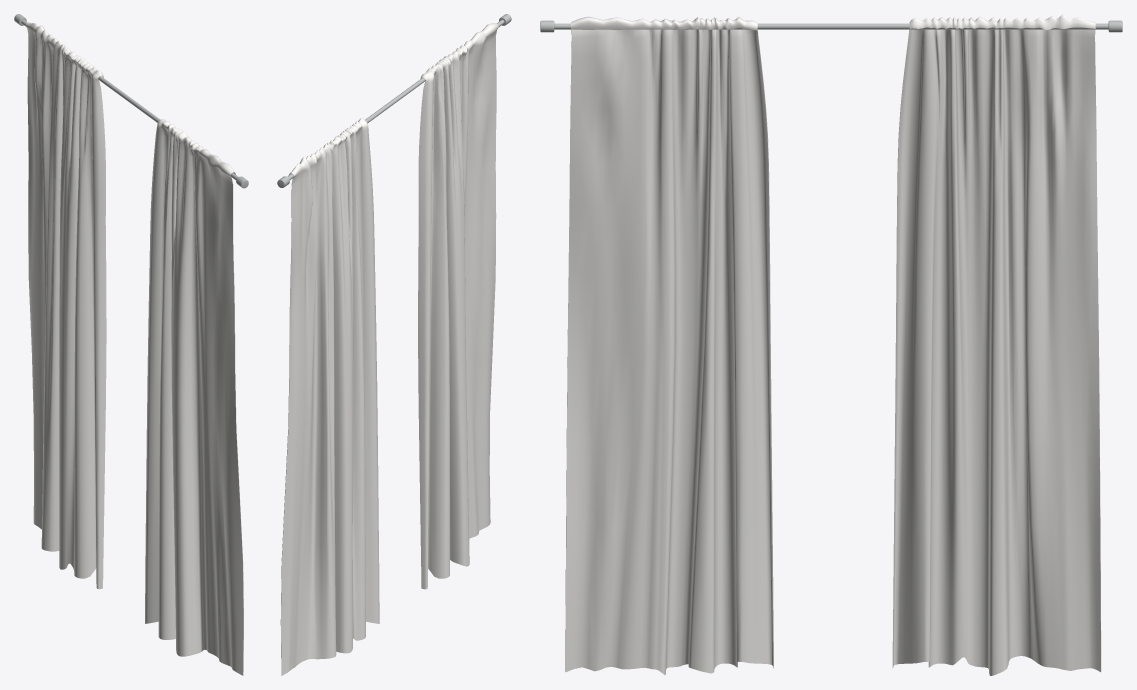
File: fabric-03-08.glb
The picture shows the model from 3 angles, left to right: view 1: azimuth 30°, elevation 25°; view 2: azimuth 150°, elevation 25°; view 3: azimuth 270°, elevation 25°; orthographic projection. The views are drawn at different scales.
Visible parts, largest first — view 1: fabric_03_08; view 2: fabric_03_08; view 3: fabric_03_08.
Boxes of the visible parts, x1,y1,x2,y2 form: fabric_03_08: [14, 14, 248, 675]; fabric_03_08: [277, 14, 511, 675]; fabric_03_08: [540, 14, 1122, 675].
Bounding box in the file's own units: 0.0889 × 1.86 × 1.49.
1 material, 1 textured.
